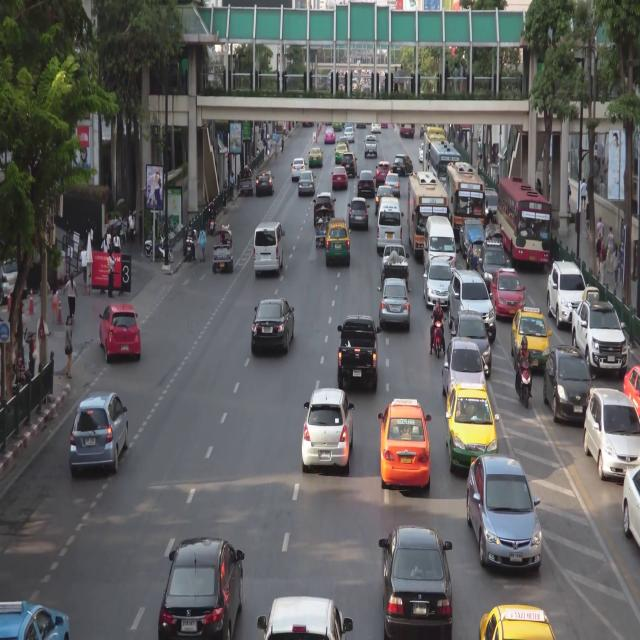bus: (498, 178, 548, 270), (408, 173, 448, 262), (448, 163, 484, 243), (430, 140, 459, 213), (423, 129, 448, 192)
car: (465, 454, 542, 570), (379, 526, 453, 640), (162, 541, 243, 640), (586, 384, 640, 481), (71, 392, 130, 478), (302, 385, 351, 474), (573, 298, 628, 375), (263, 596, 348, 640), (545, 346, 591, 424), (449, 269, 496, 341), (444, 338, 487, 408), (338, 317, 378, 392), (100, 302, 141, 367), (548, 261, 587, 329), (252, 296, 296, 356), (452, 311, 491, 378), (425, 217, 457, 278), (254, 220, 284, 275), (381, 277, 410, 331), (377, 196, 403, 252), (424, 260, 452, 310), (624, 465, 640, 551), (479, 243, 508, 289), (383, 244, 409, 285), (460, 223, 487, 257), (214, 226, 234, 270), (349, 196, 368, 231), (483, 187, 500, 225), (468, 232, 483, 275), (485, 225, 503, 260), (316, 193, 335, 225), (315, 210, 331, 245), (257, 170, 276, 195), (358, 170, 375, 196), (376, 186, 394, 210), (299, 170, 315, 195), (394, 153, 412, 175), (332, 166, 348, 190), (385, 173, 400, 196), (240, 169, 253, 195), (376, 161, 391, 182), (365, 135, 378, 159), (292, 158, 306, 179), (338, 136, 349, 151), (344, 127, 355, 142), (419, 143, 425, 162), (344, 122, 354, 132), (372, 122, 381, 133)
pedestrian: (64, 316, 73, 380), (67, 273, 76, 320), (108, 251, 115, 298), (599, 240, 606, 285), (80, 244, 87, 288), (607, 226, 613, 277), (198, 225, 206, 263), (20, 304, 28, 341), (51, 282, 58, 324), (597, 216, 604, 251), (129, 210, 135, 248), (112, 231, 121, 255), (596, 232, 601, 274), (614, 246, 619, 287), (138, 209, 143, 247), (581, 177, 586, 212), (105, 227, 112, 251), (586, 202, 590, 240), (223, 181, 227, 211), (102, 234, 108, 252), (230, 172, 234, 199), (255, 147, 259, 170), (274, 140, 278, 162), (267, 138, 271, 156), (281, 136, 284, 154)
taxi: (445, 383, 500, 477), (380, 401, 431, 491), (0, 595, 70, 640), (477, 604, 556, 640), (512, 304, 551, 371), (491, 267, 523, 321), (325, 218, 350, 268), (621, 359, 640, 421), (309, 147, 323, 167), (335, 144, 348, 165), (325, 126, 336, 143), (333, 121, 343, 131)
